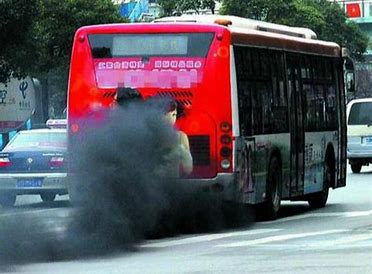smoke: (1, 112, 194, 265)
